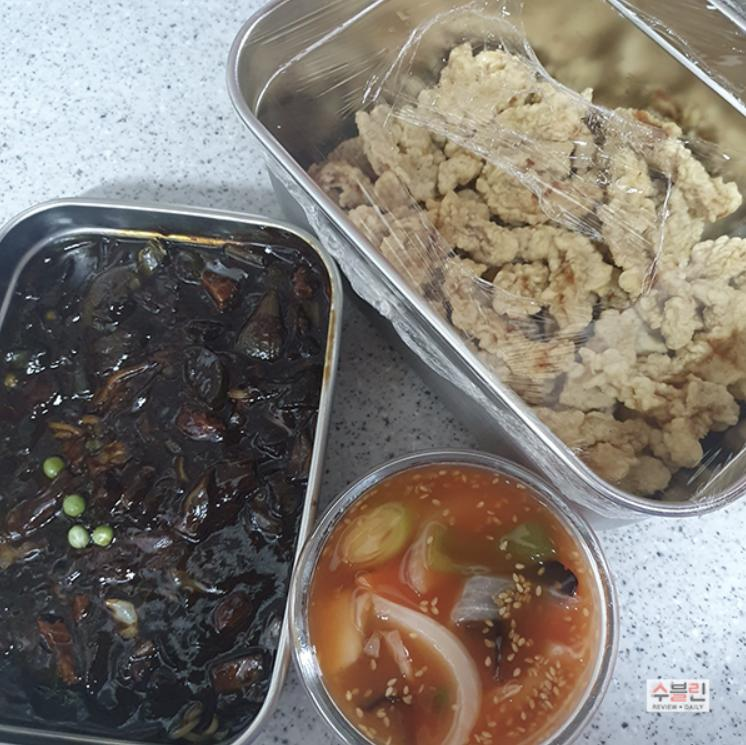Lunch Box: (228, 0, 745, 522), (0, 200, 341, 744), (287, 450, 618, 744)
